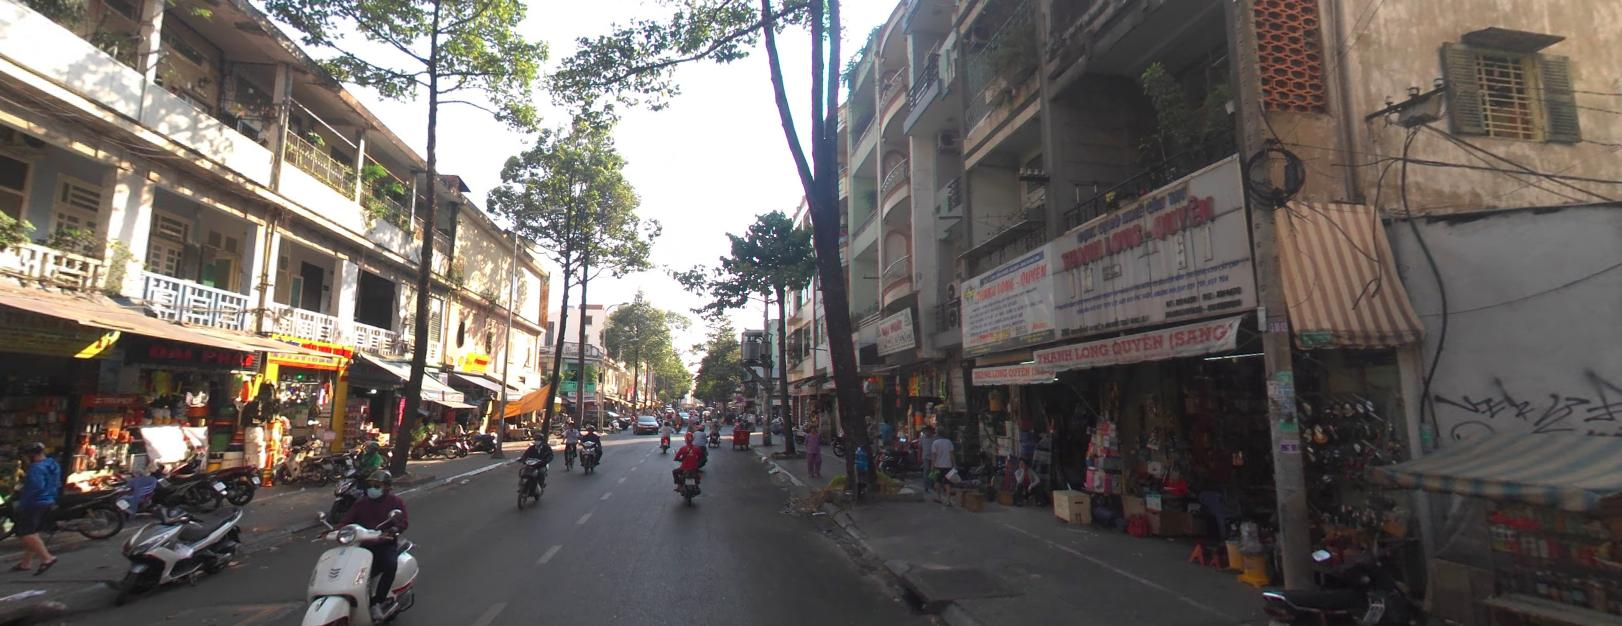Cam dung va do: (735, 395, 741, 400)
